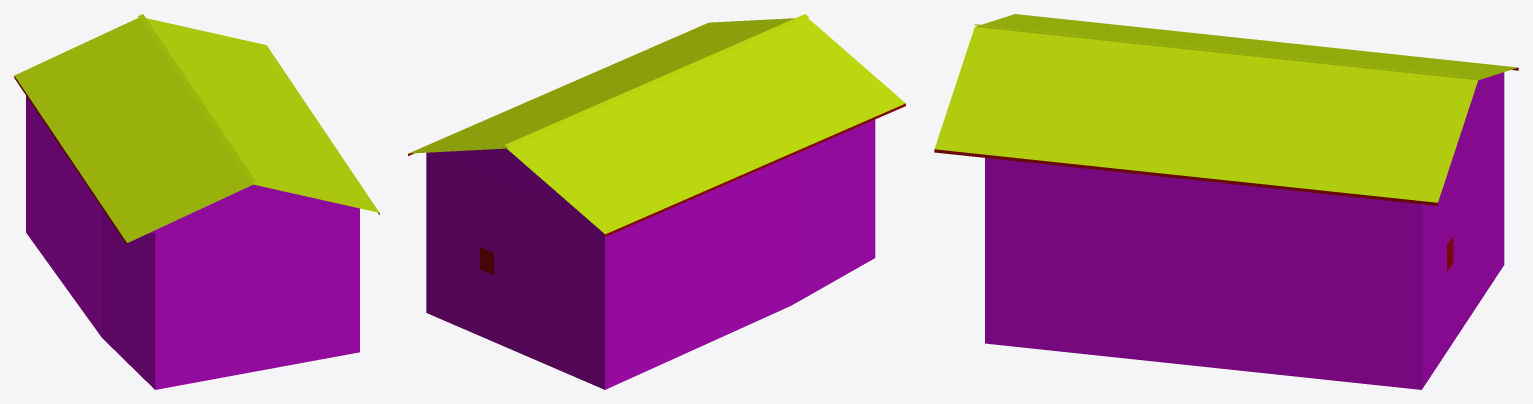
The model's file is bgj_328.glb.
3 views of the same model, side by side, from view 1: azimuth 30°, elevation 25°; view 2: azimuth 150°, elevation 25°; view 3: azimuth 270°, elevation 25° (orthographic). The views are drawn at different scales.
Visible parts, largest first — view 1: bgj_328; view 2: bgj_328; view 3: bgj_328.
Boxes of the visible parts, x1,y1,x2,y2 form: bgj_328: (14,14,379,389); bgj_328: (408,14,905,389); bgj_328: (934,14,1518,389).
Bounding box in the file's own units: 15.15 × 9.43 × 19.8.
